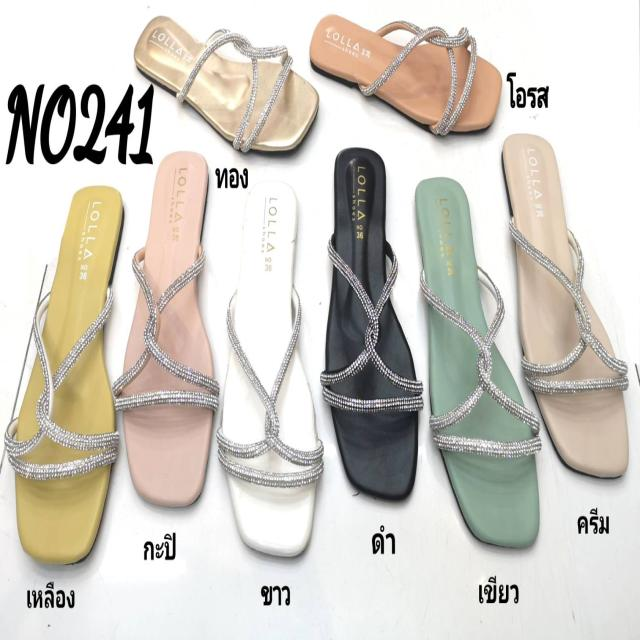black: (324, 150, 422, 503)
cream: (506, 131, 630, 486)
gold: (128, 12, 317, 159)
green: (412, 173, 540, 549)
kapi: (124, 151, 217, 514)
orot: (310, 11, 502, 140)
white: (221, 178, 317, 562)
yellow: (11, 189, 119, 563)
